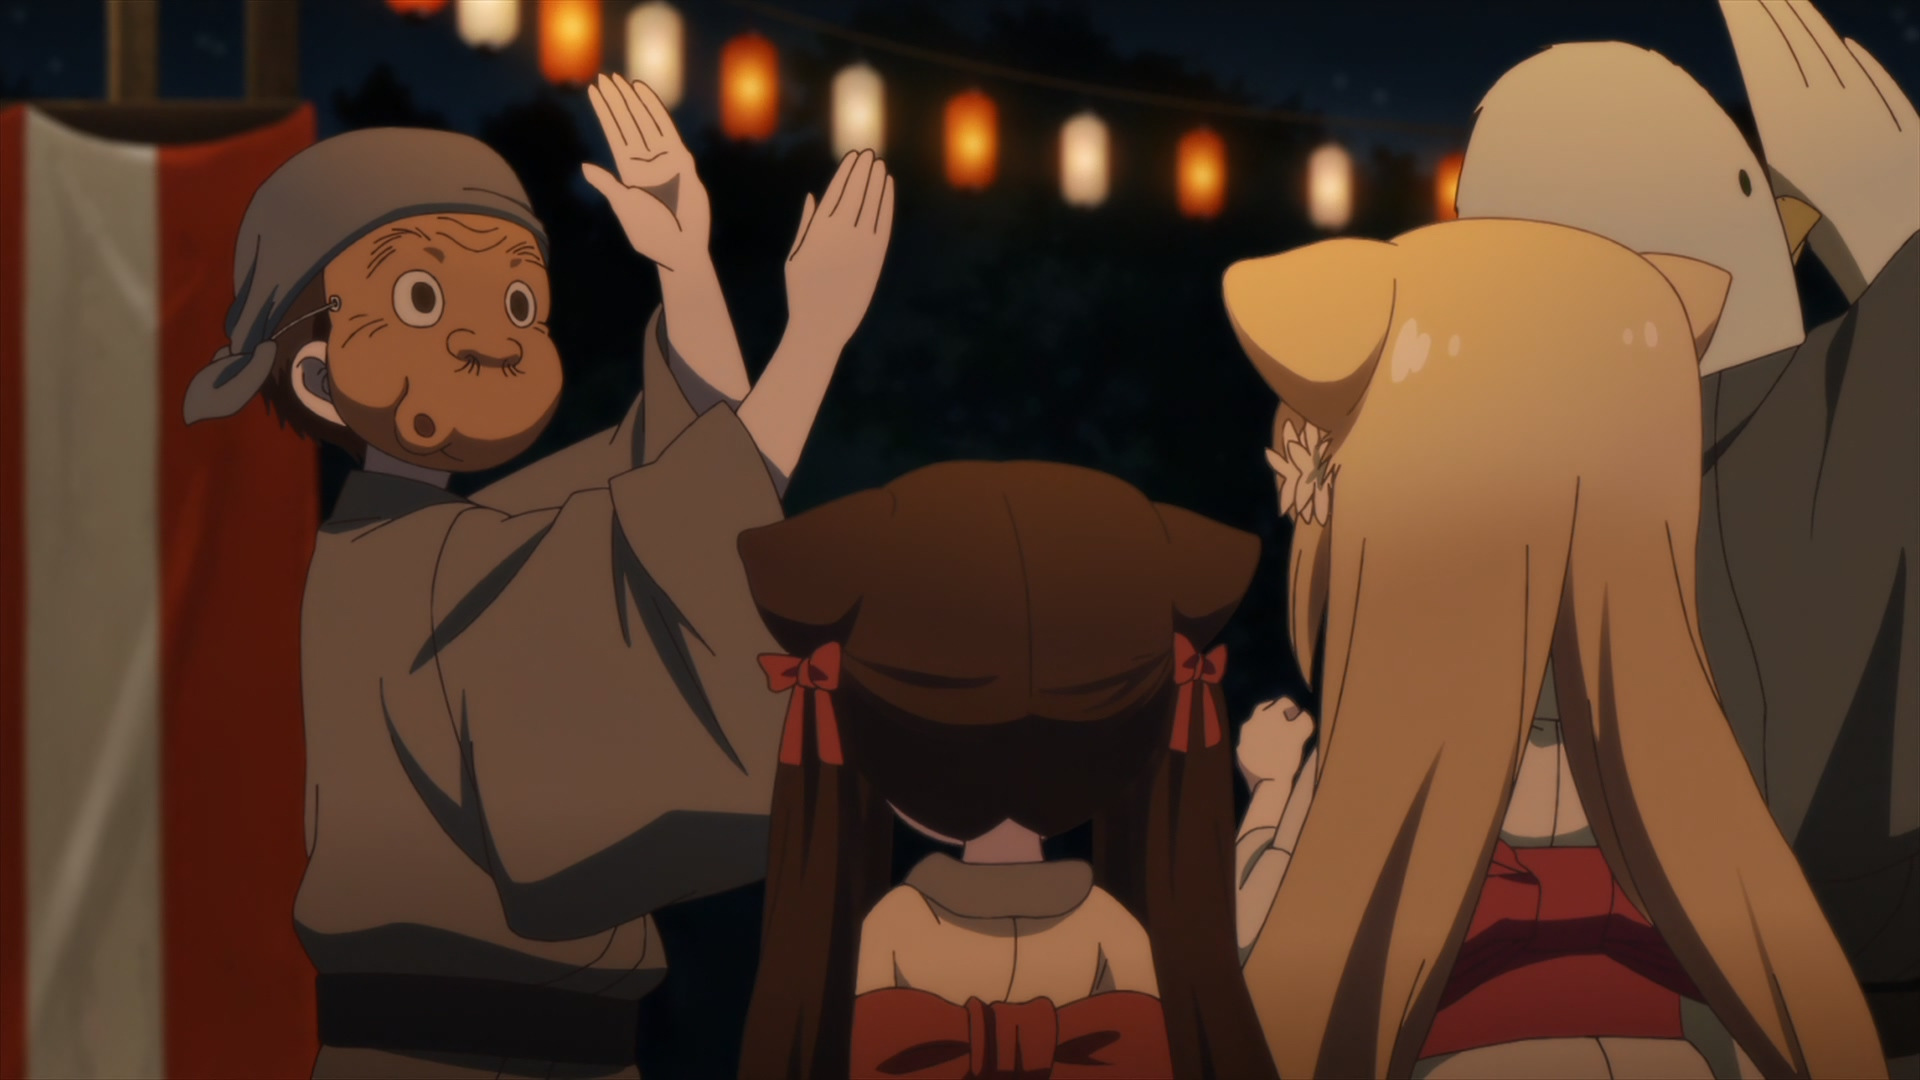其他: (178, 75, 897, 1080), (1457, 1, 1920, 913)
柚: (1222, 220, 1884, 1080)
樱: (732, 462, 1261, 1080)
